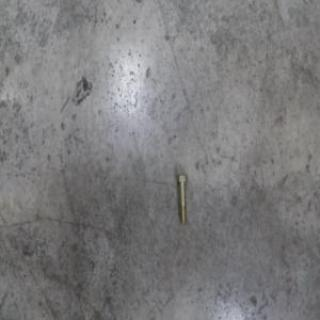Bolttrack_idkeyframe: (175, 172, 187, 224)
